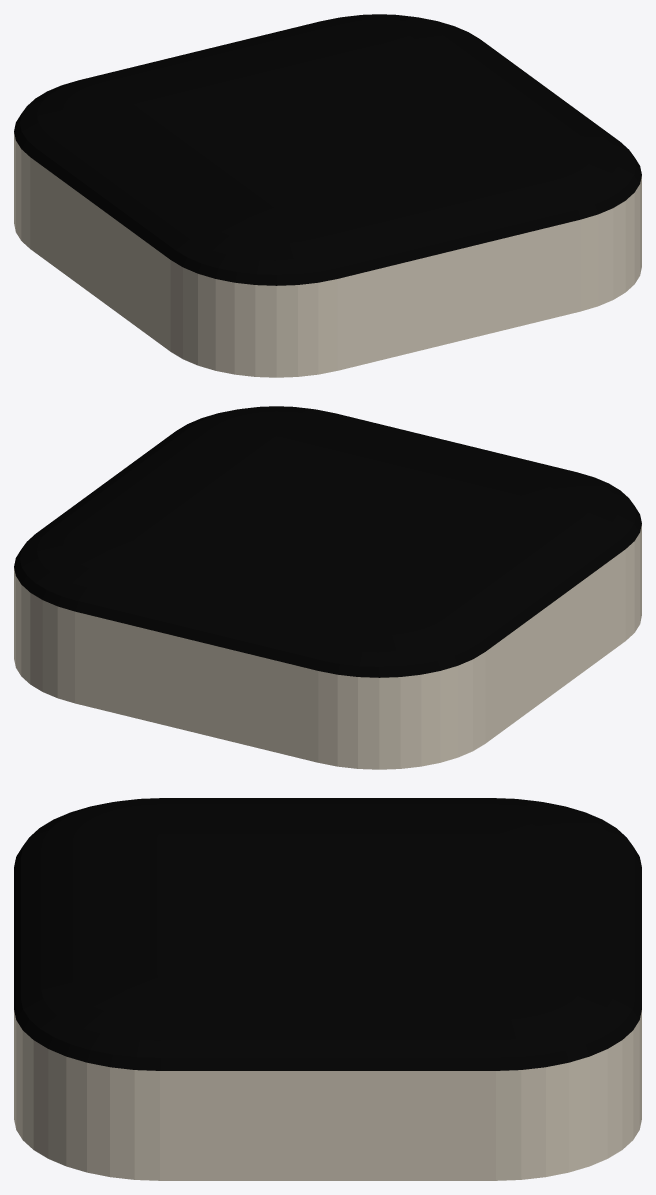
The model's file is tile1.glb.
The picture shows the model from 3 angles, top to bottom: view 1: azimuth 30°, elevation 25°; view 2: azimuth 150°, elevation 25°; view 3: azimuth 270°, elevation 25°; orthographic projection. The views are drawn at different scales.
Visible parts, largest first — view 1: Cube; view 2: Cube; view 3: Cube.
Part boxes in pixels (x1,y1,x2,y2): Cube: (14,14,641,377); Cube: (14,406,641,769); Cube: (14,798,641,1180).
Size of the model in its own units: 2 by 0.5 by 2.
Materials: 2 (1 with a texture image).
